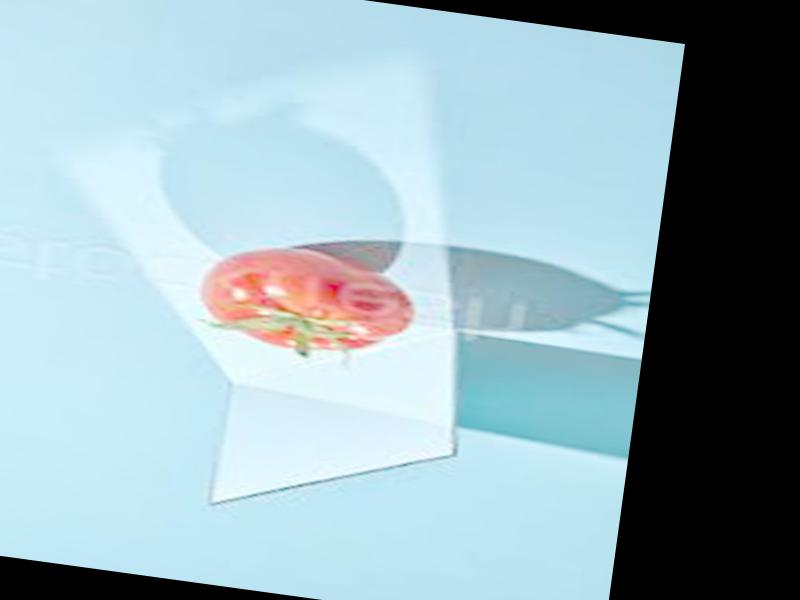Tomato: (195, 236, 421, 364)
